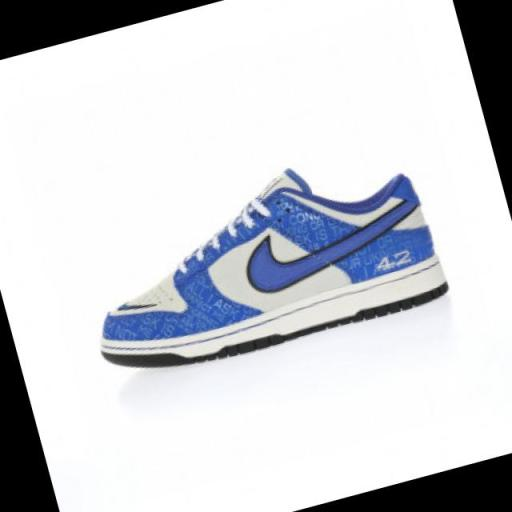Nike: (234, 198, 417, 304)
